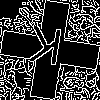K: (25, 25, 65, 75)
